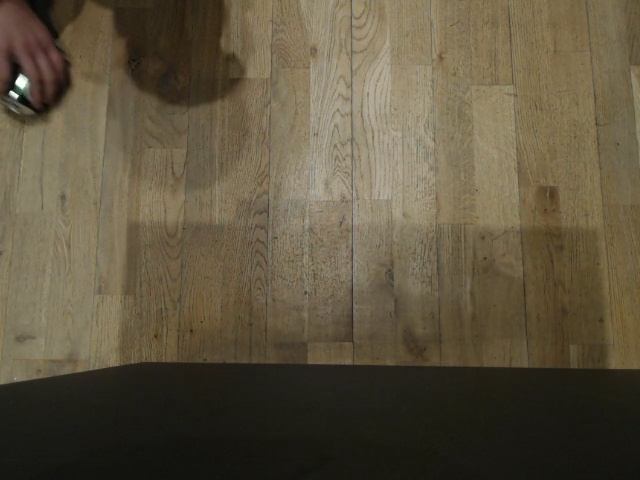beer: (1, 38, 66, 122)
